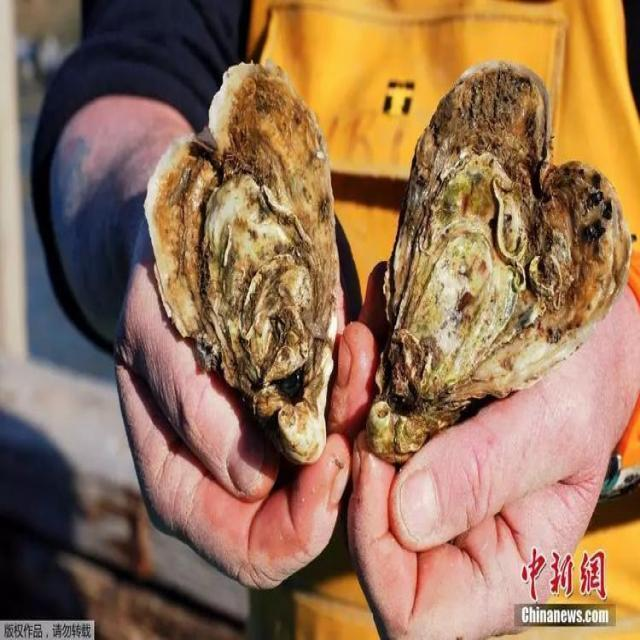Oyster- Indeterminate: (368, 62, 631, 463), (145, 64, 339, 464)
